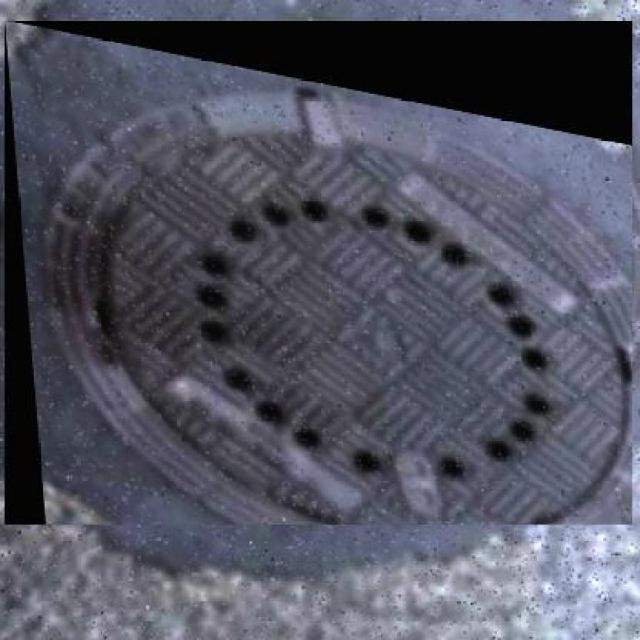Manhole: (5, 20, 632, 525)
